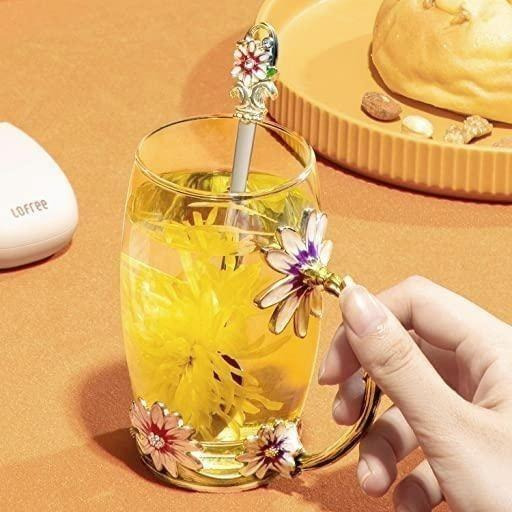glass-mug: (113, 106, 389, 500)
